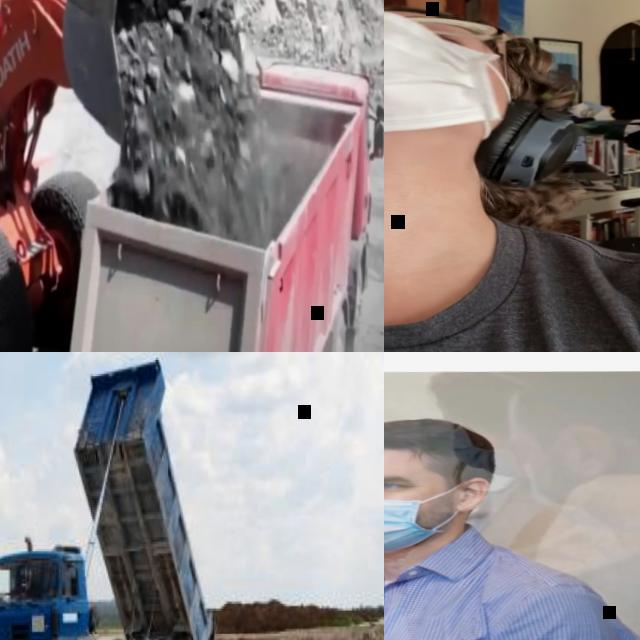Mask: (384, 5, 522, 135), (453, 424, 513, 474), (384, 490, 427, 552), (516, 465, 571, 512)
NO-Hardhat: (486, 11, 601, 105), (513, 369, 640, 424), (384, 413, 495, 473), (421, 368, 503, 413)
NO-Safety Vest: (384, 203, 640, 352)
Person: (384, 0, 640, 352), (384, 407, 640, 640), (512, 369, 640, 578), (437, 368, 534, 465)
vehicle: (50, 37, 384, 352), (0, 0, 270, 352), (0, 352, 219, 640)
